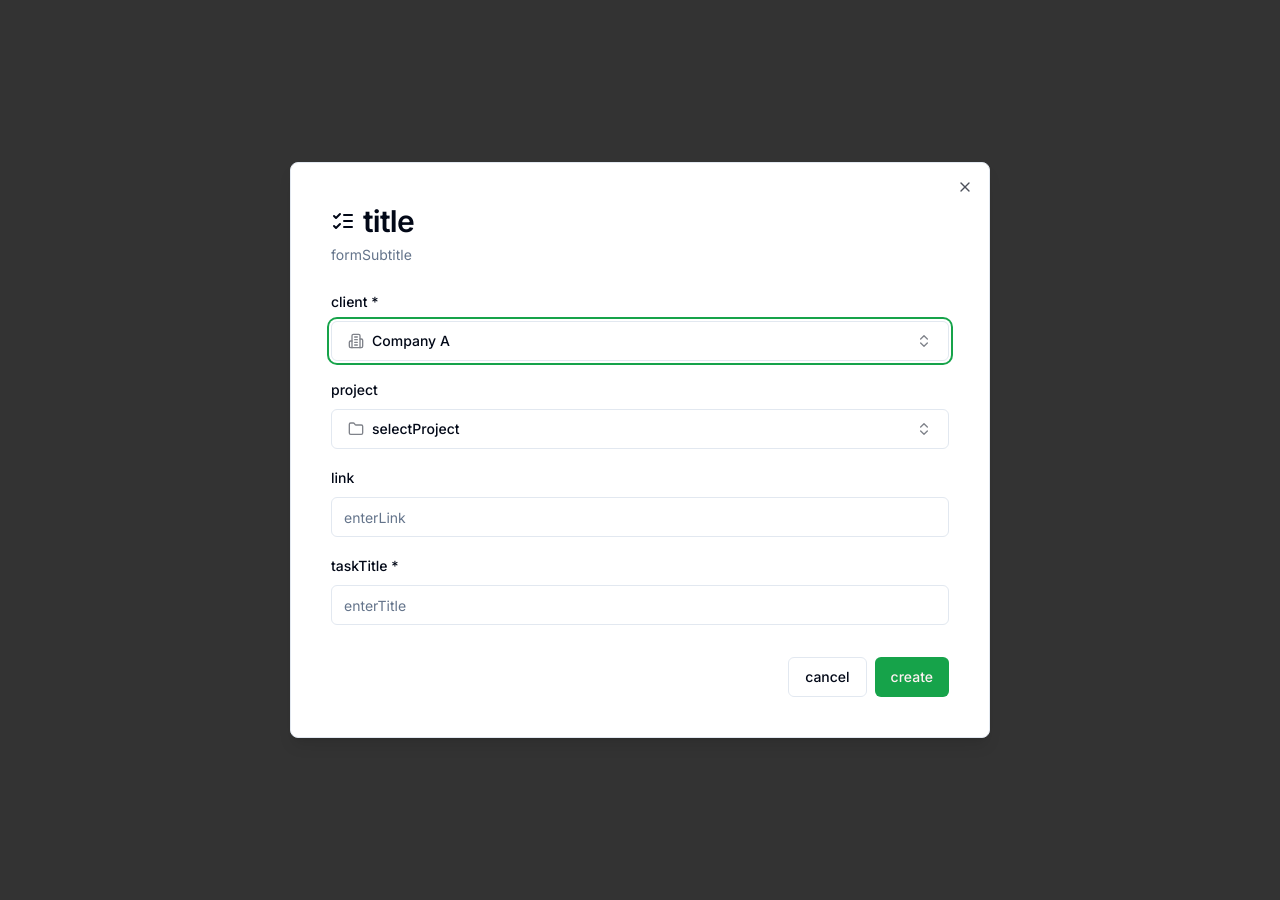
Test: TaskCreateDialog › auto-fills the title from a pasted Linear link (key + de-slugified title)
Type "https://linear.app/acme/issue/ENG-42/fix-login-bug" into the field with placeholder "enterLink".
click(640, 517); type("https://linear.app/acme/issue/ENG-42/fix-login-bug")  # box left=331, top=497, right=949, bottom=537
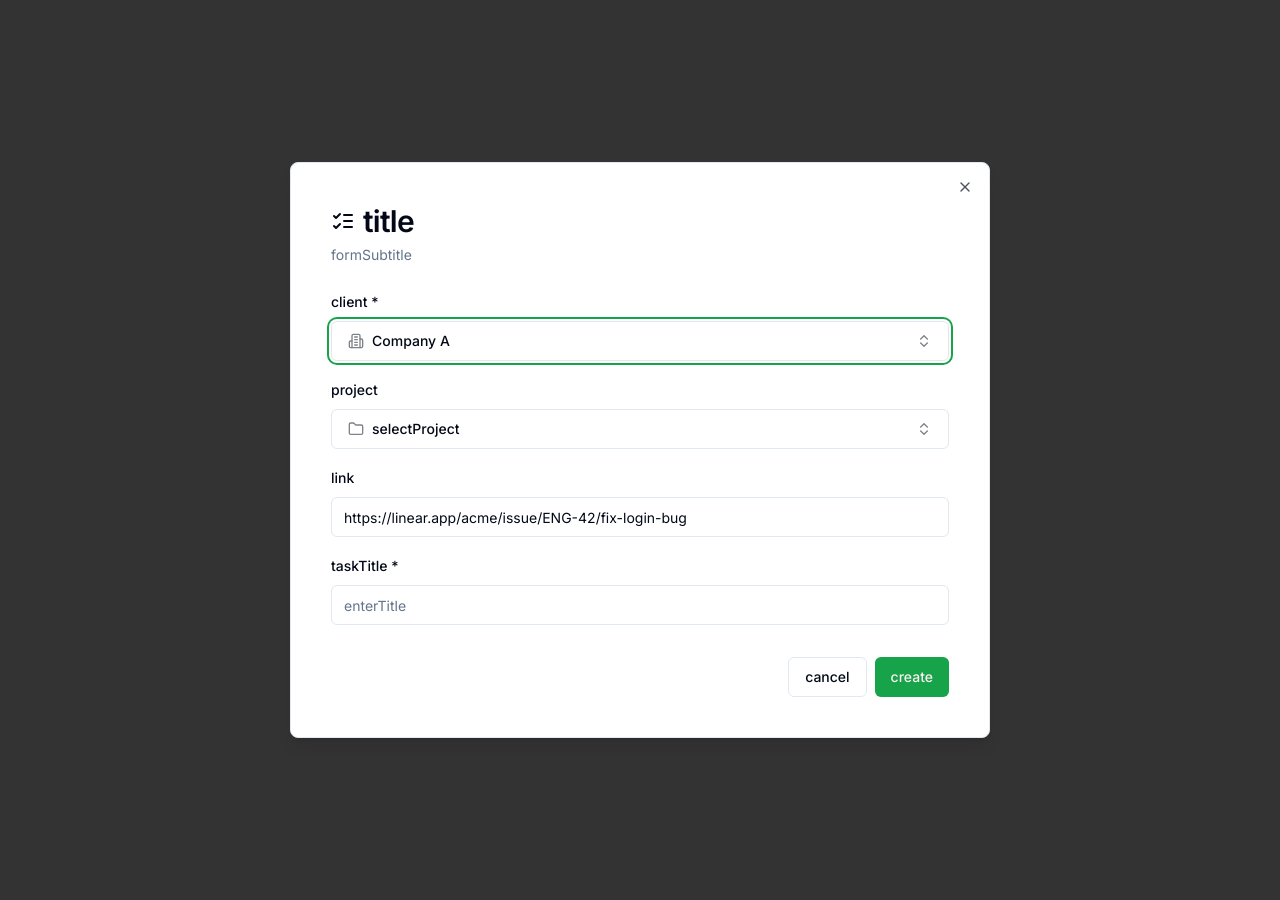
Leave the field with placeholder "enterLink", box left=331, top=497, right=949, bottom=537
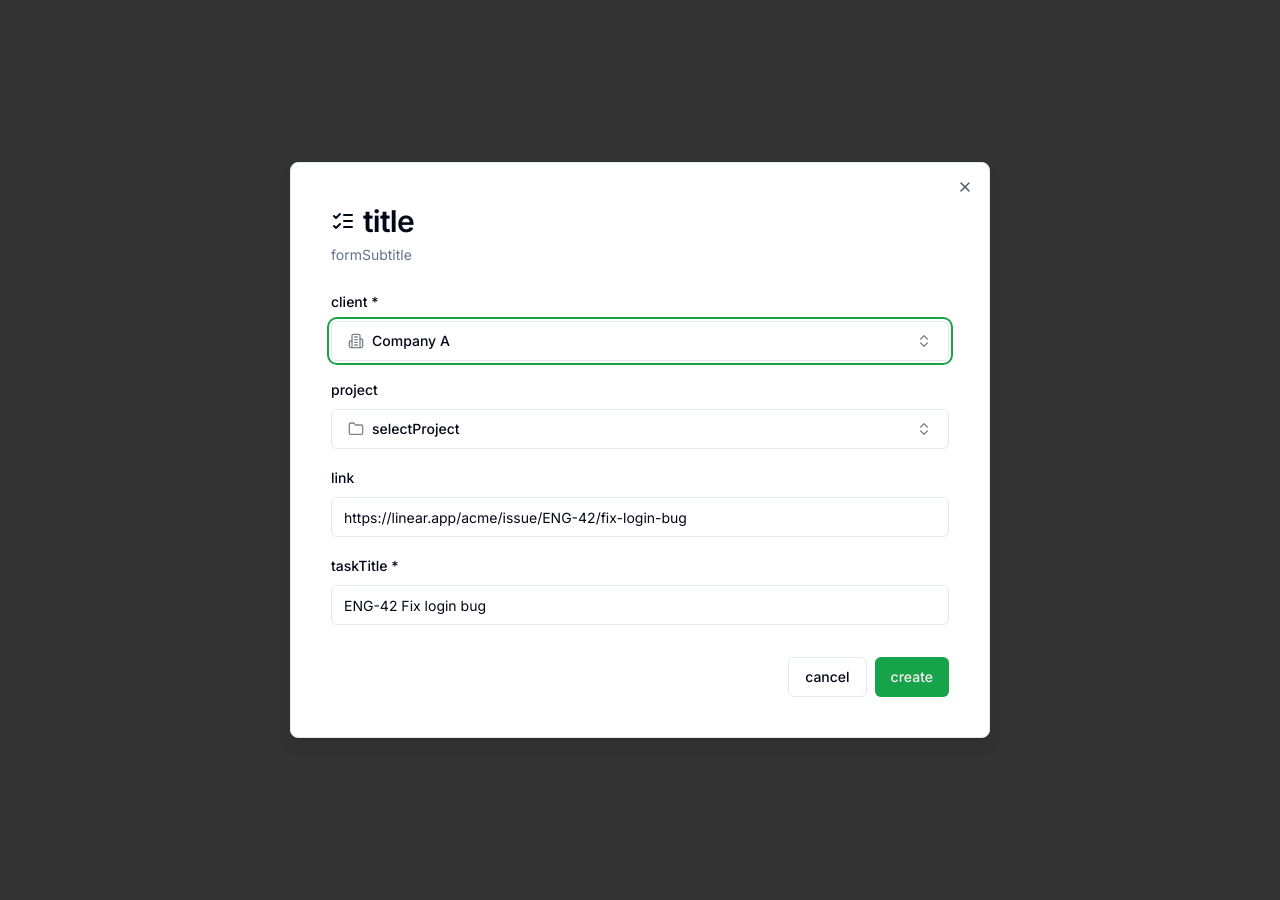
Check: the field with placeholder "enterTitle" holds "ENG-42 Fix login bug", box left=331, top=585, right=949, bottom=625
